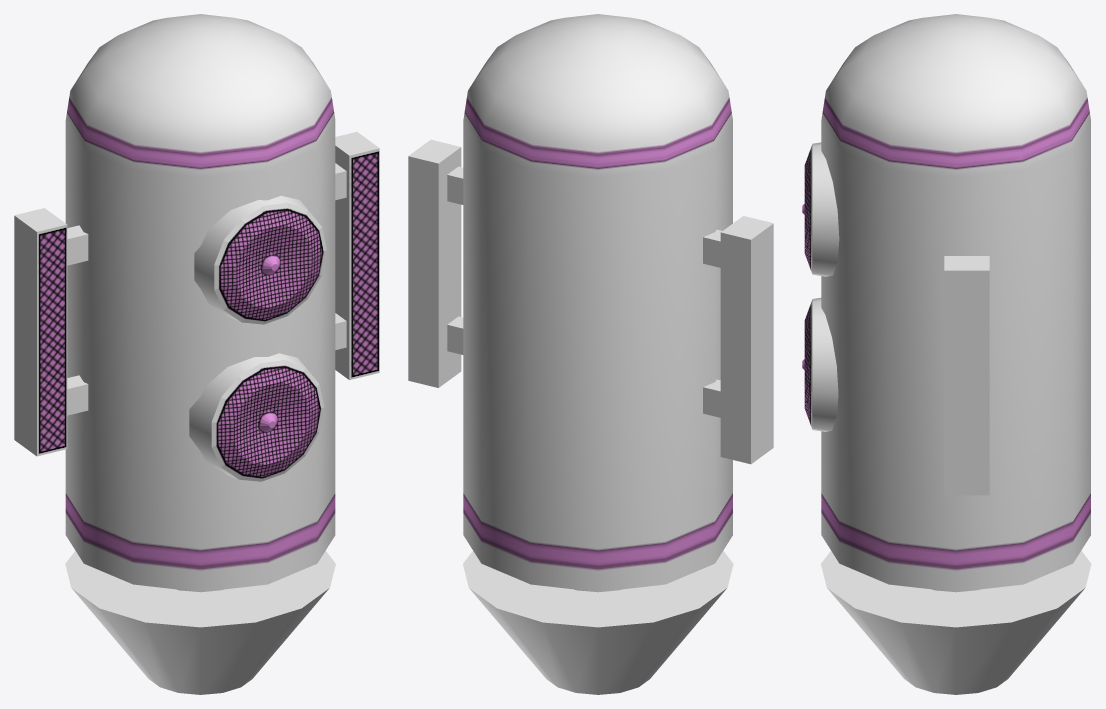
File: speaker3.FBX
3 renders of one model, left to right at view 1: azimuth 30°, elevation 25°; view 2: azimuth 150°, elevation 25°; view 3: azimuth 270°, elevation 25°, orthographic.
Visible parts, largest first — view 1: speaker 2.0; view 2: speaker 2.0; view 3: speaker 2.0.
Part boxes in pixels (x1,y1,x2,y2): speaker 2.0: (14,14,379,694); speaker 2.0: (408,14,773,694); speaker 2.0: (802,14,1091,694).
Bounding box in the file's own units: 175 × 313 × 127.
Materials: 1 (1 with a texture image).
